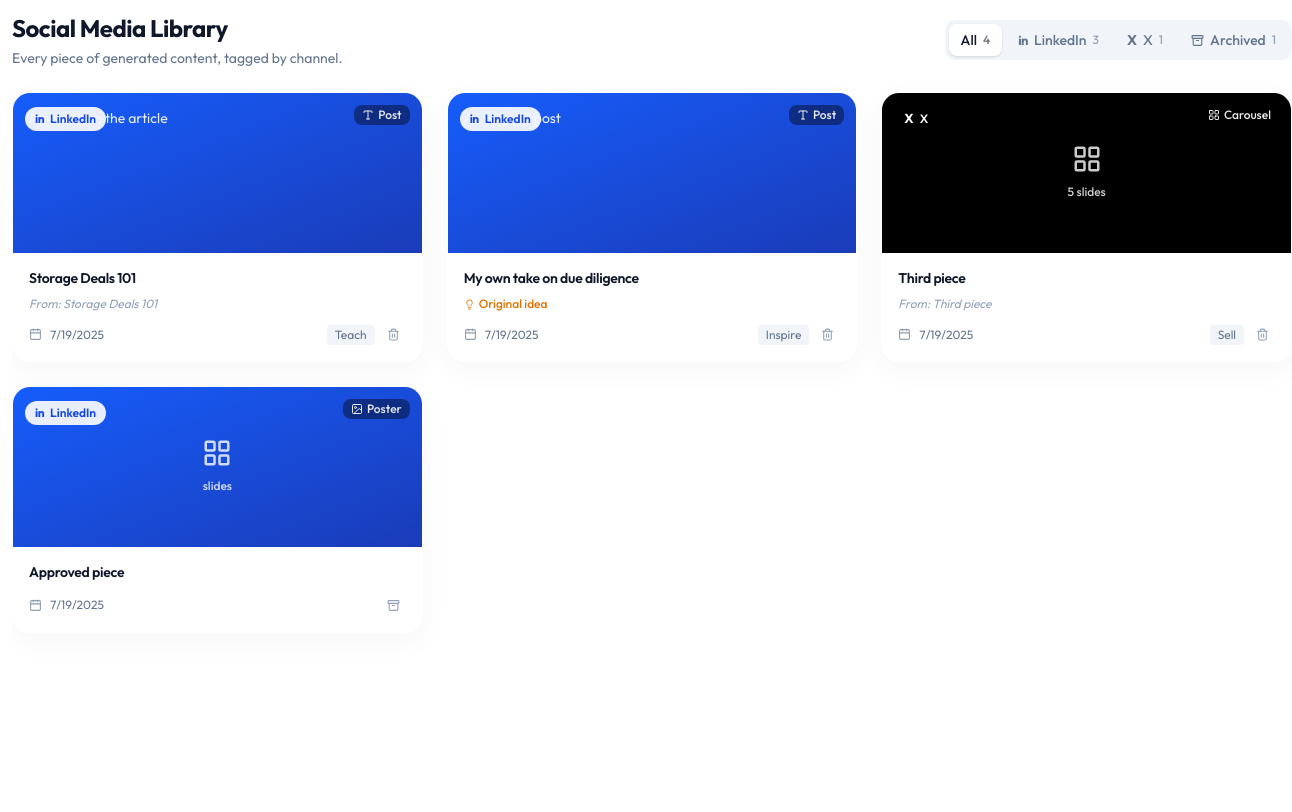
SocialLibrary › hides archived assets behind the Archived filter, with restore
Expected: the heading "Storage Deals 101" is shown, [29,269,136,287]
Expected: the text "an archived post" is not shown
Click the button "Archived 1".
click(1234, 40)  # box [1179,24,1288,56]
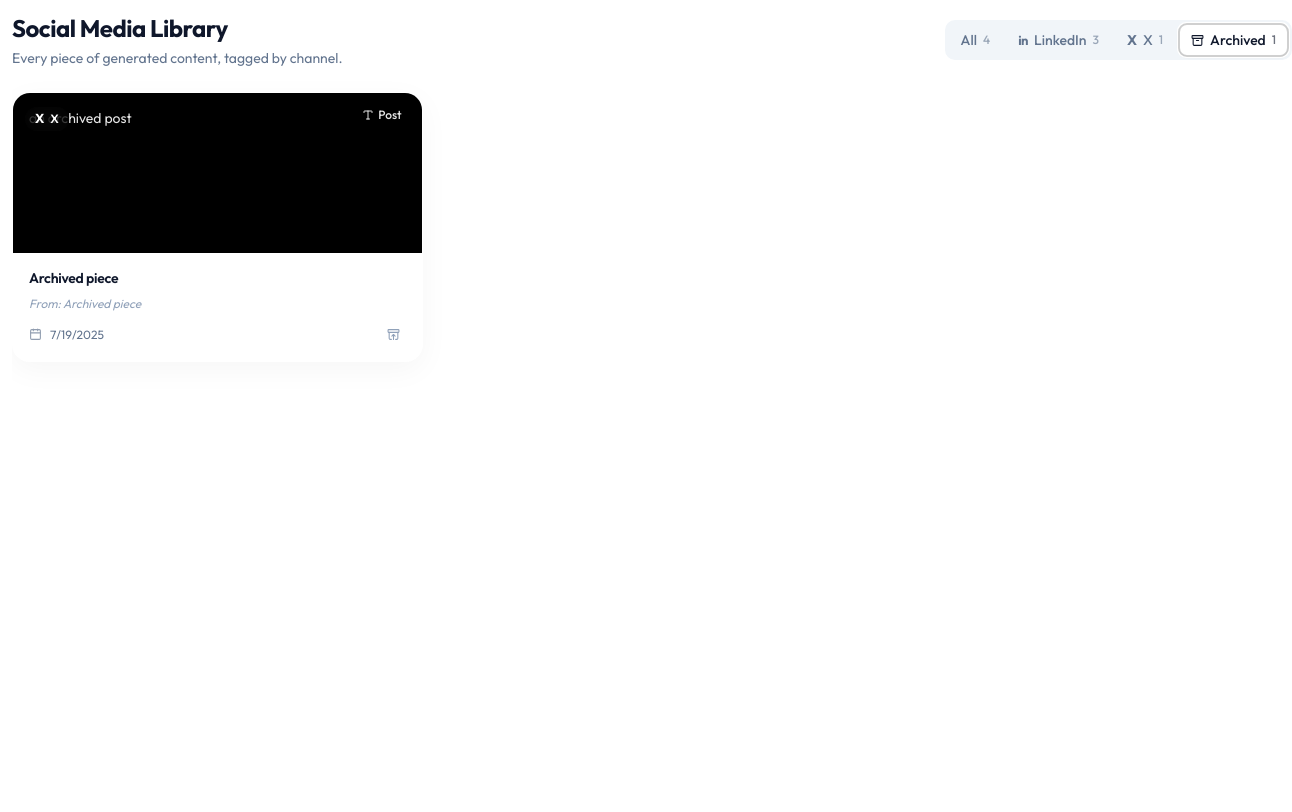
Expected: the text "an archived post" is shown, [29,109,132,127]
Expected: the heading "Storage Deals 101" is gone
Click the button named "Restore".
click(393, 335)  # box [381,324,406,345]
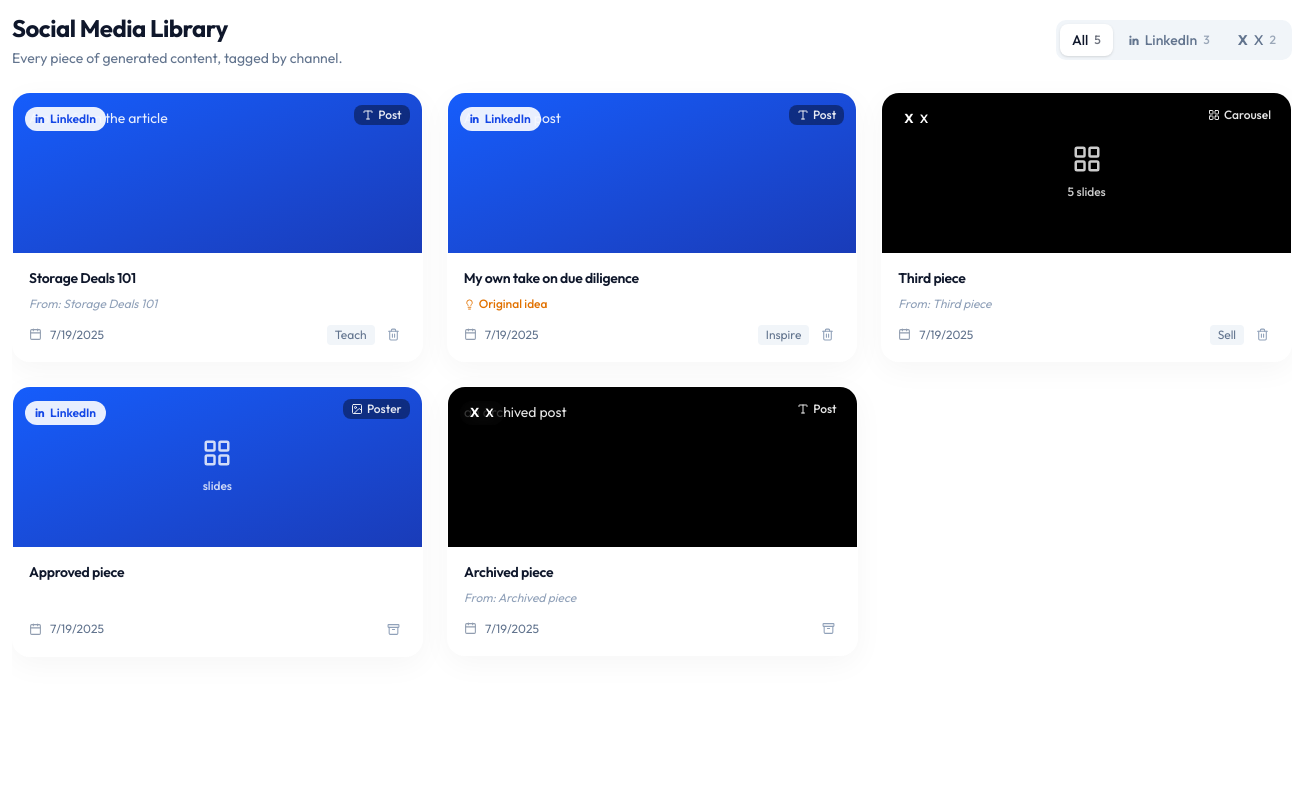
Expected: the text "an archived post" is shown, [464,403,566,421]
Expected: the heading "Storage Deals 101" is shown, [29,269,136,287]
